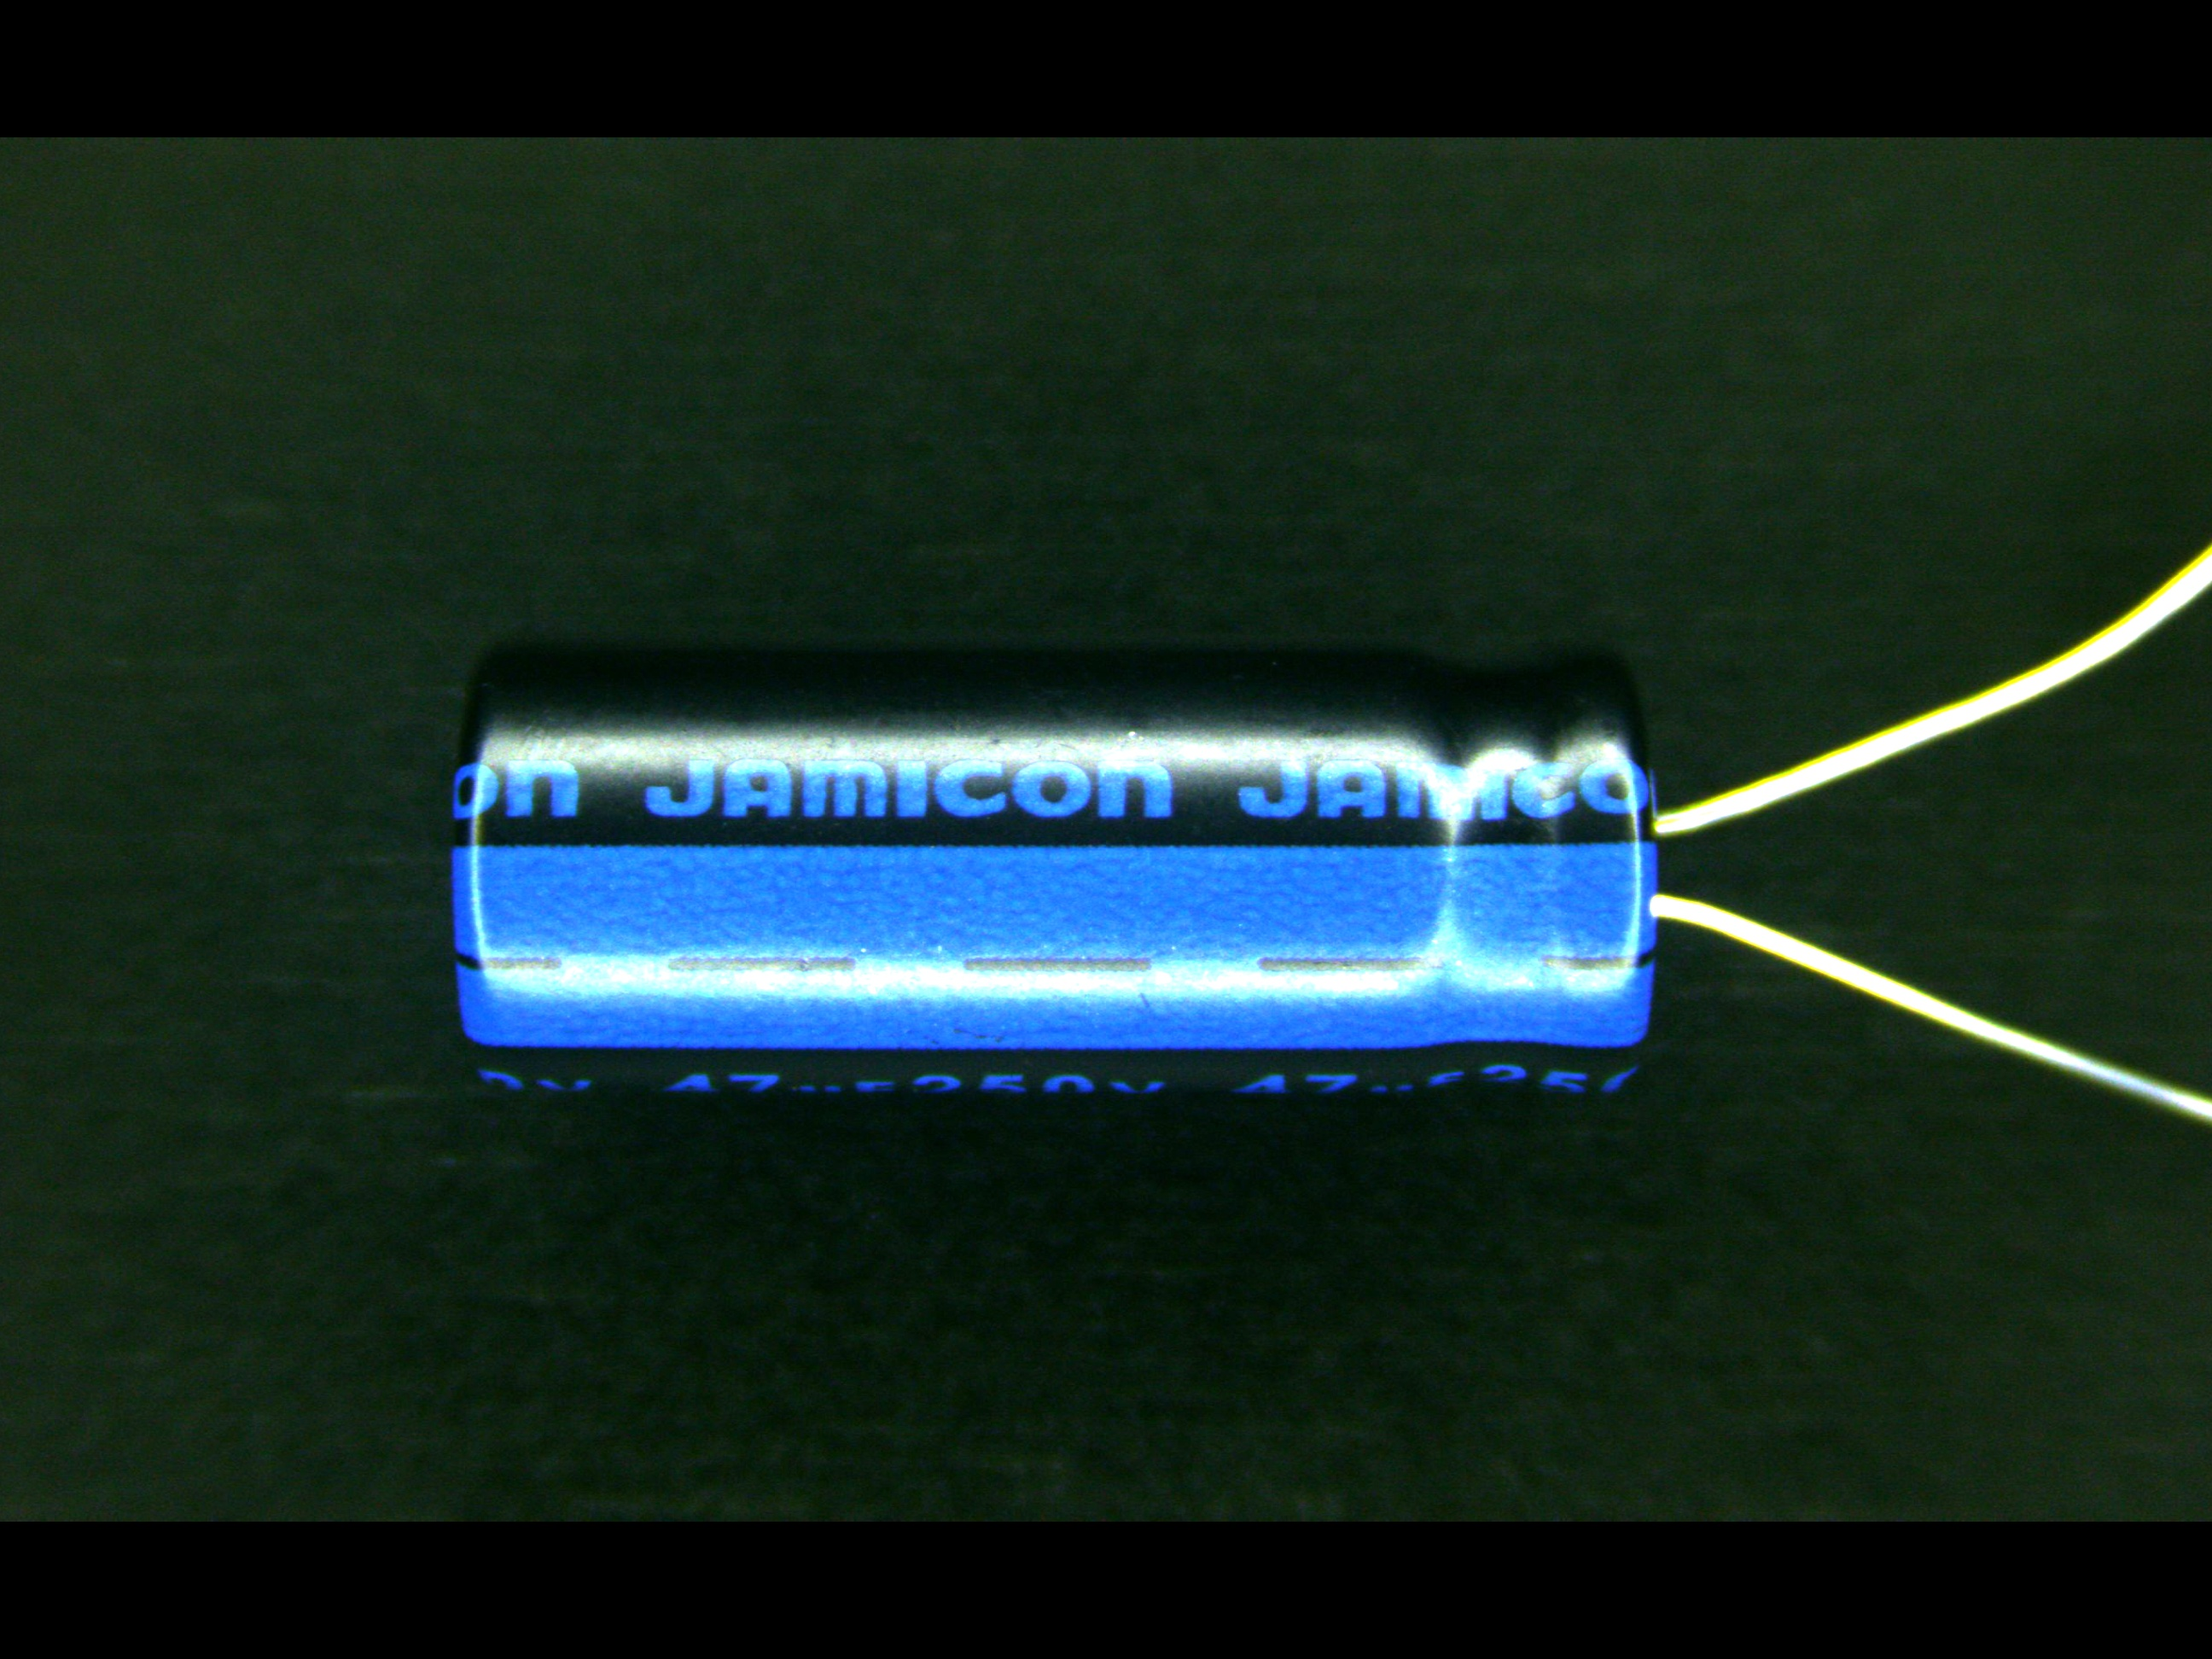c2: (444, 650, 1879, 1107)
